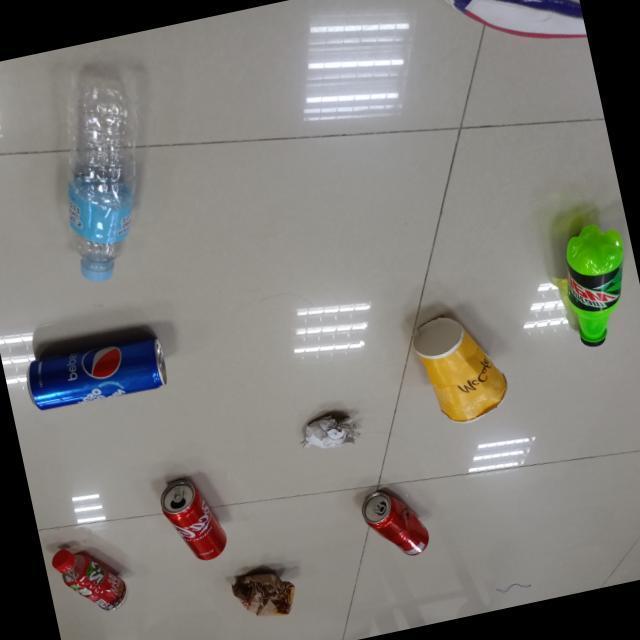recyclable waste: (32, 50, 181, 292), (14, 320, 178, 422), (403, 300, 519, 434), (550, 212, 640, 354), (150, 466, 236, 572), (45, 531, 134, 627), (350, 476, 438, 571), (224, 556, 305, 632), (294, 404, 368, 459)
